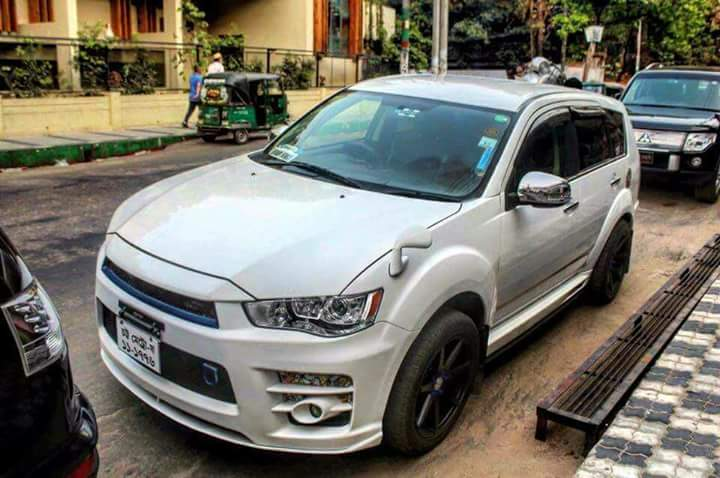registration_plate: (115, 316, 160, 374)
